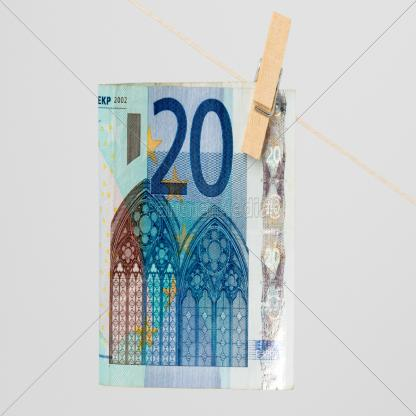euro_banknote: (45, 138, 348, 336)
